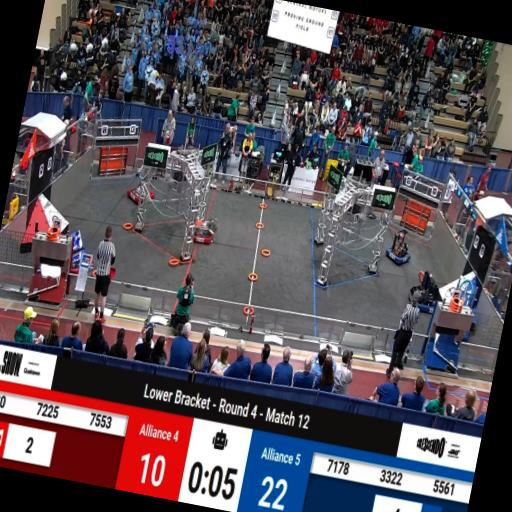robot: (407, 270, 446, 316), (384, 226, 415, 267), (124, 171, 157, 207), (190, 216, 219, 248)
